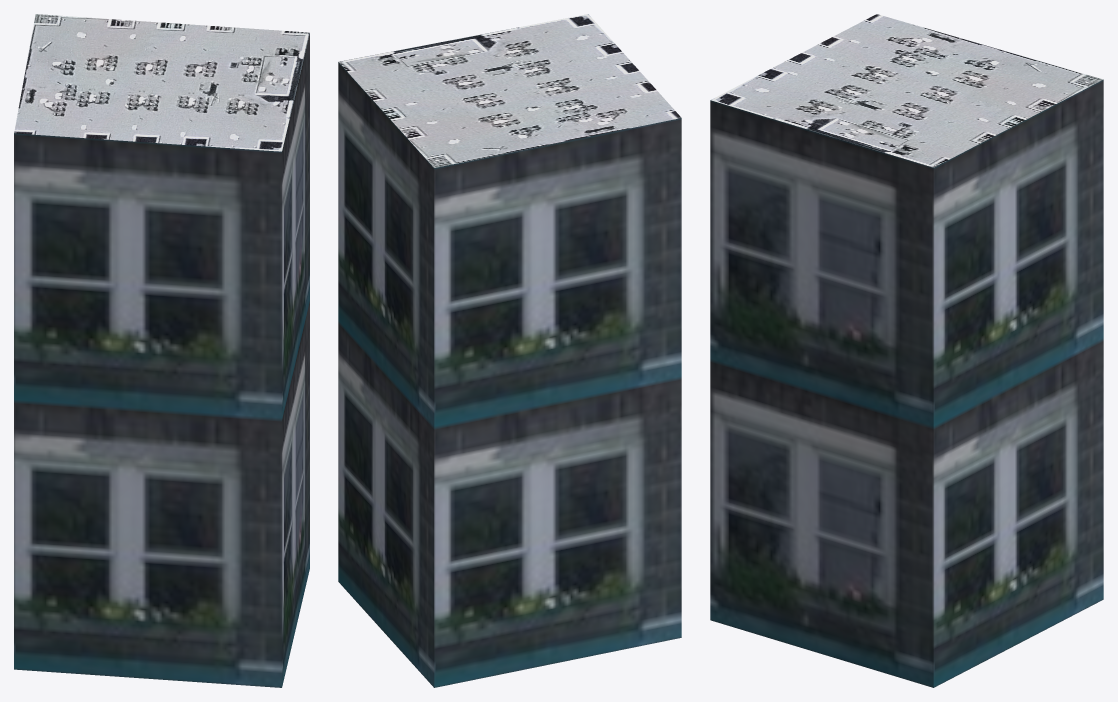
Rendered from ResTex__1612.fbx.
The picture shows the model from 3 angles, left to right: view 1: azimuth 30°, elevation 25°; view 2: azimuth 150°, elevation 25°; view 3: azimuth 270°, elevation 25°; orthographic projection. The views are drawn at different scales.
Visible parts, largest first — view 1: CityEngineMaterial_11_m, CityEngineMaterial_m; view 2: CityEngineMaterial_11_m, CityEngineMaterial_m; view 3: CityEngineMaterial_11_m, CityEngineMaterial_m.
Boxes of the visible parts, x1,y1,x2,y2 form: CityEngineMaterial_11_m: [14, 33, 309, 687]; CityEngineMaterial_m: [14, 14, 309, 151]; CityEngineMaterial_11_m: [338, 62, 681, 687]; CityEngineMaterial_m: [338, 14, 681, 167]; CityEngineMaterial_11_m: [710, 79, 1103, 687]; CityEngineMaterial_m: [710, 14, 1103, 167].
Size of the model in its own units: 3.81 by 6 by 4.11.
Materials: 2 (2 with a texture image).
